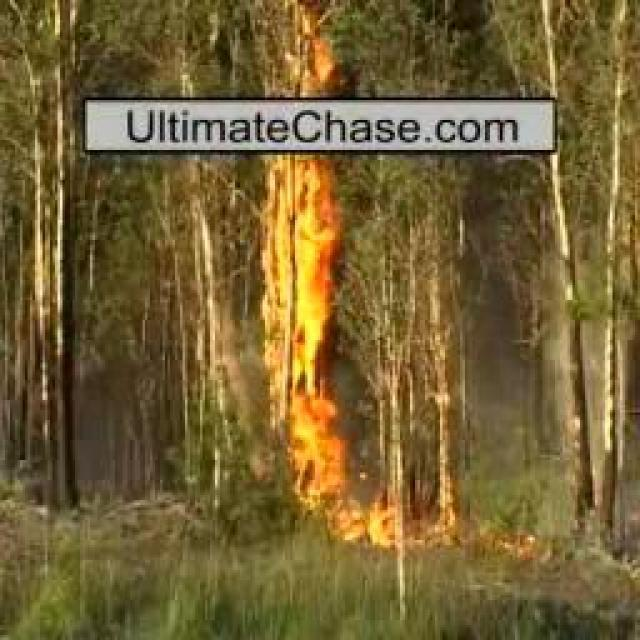Fire: (274, 152, 333, 448), (287, 456, 401, 555), (290, 9, 342, 102)
